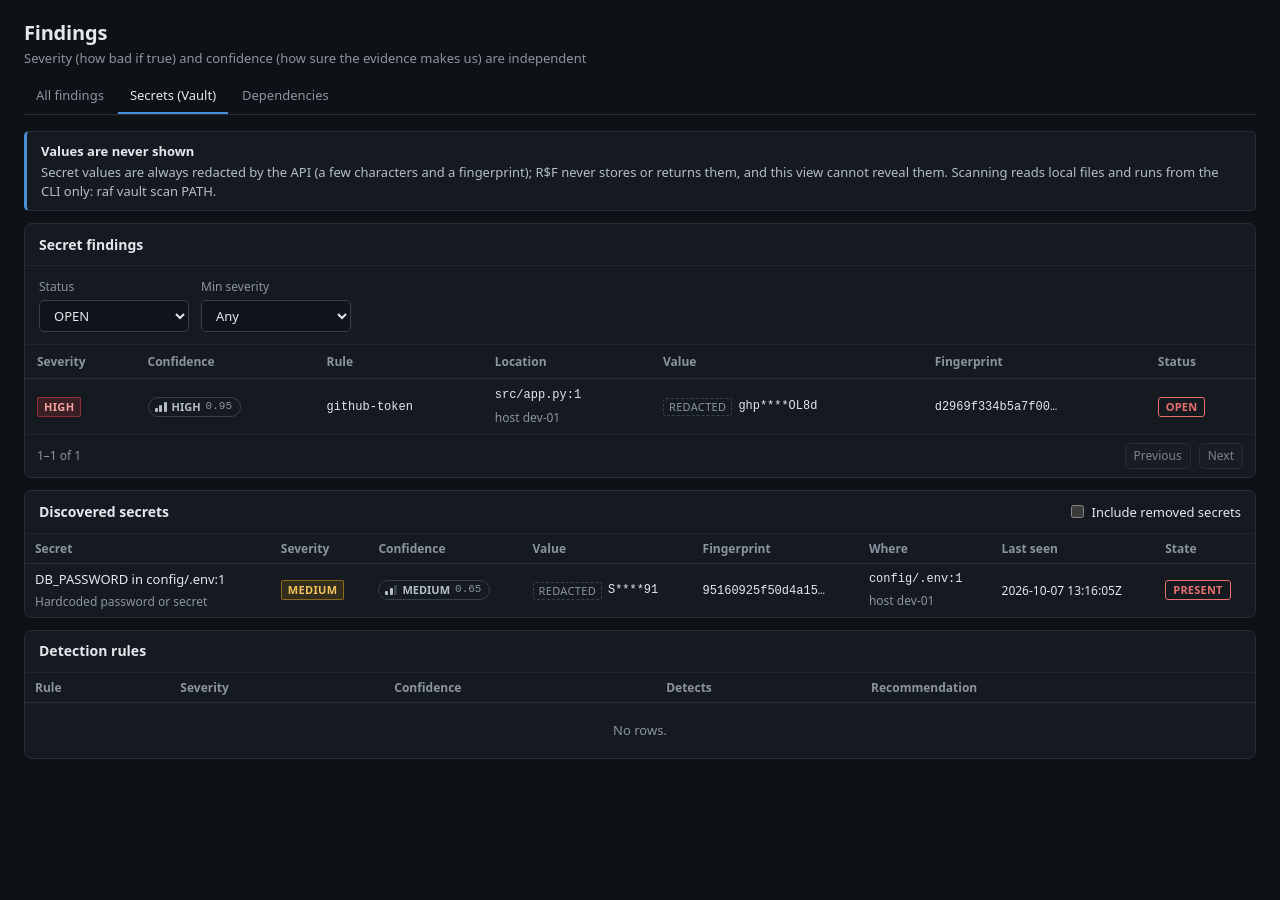
Findings: Vault tab › shows secrets only as redacted values with fingerprints, never the value
Expected: the row named "Open finding GitHub token in src/app.py" shows "redacted", [669, 399, 726, 414]
Expected: the row named "Open finding GitHub token in src/app.py" shows "ghp****OL8d", [738, 399, 817, 413]
Click the text "github-token": [370, 407] box [326, 400, 413, 414]
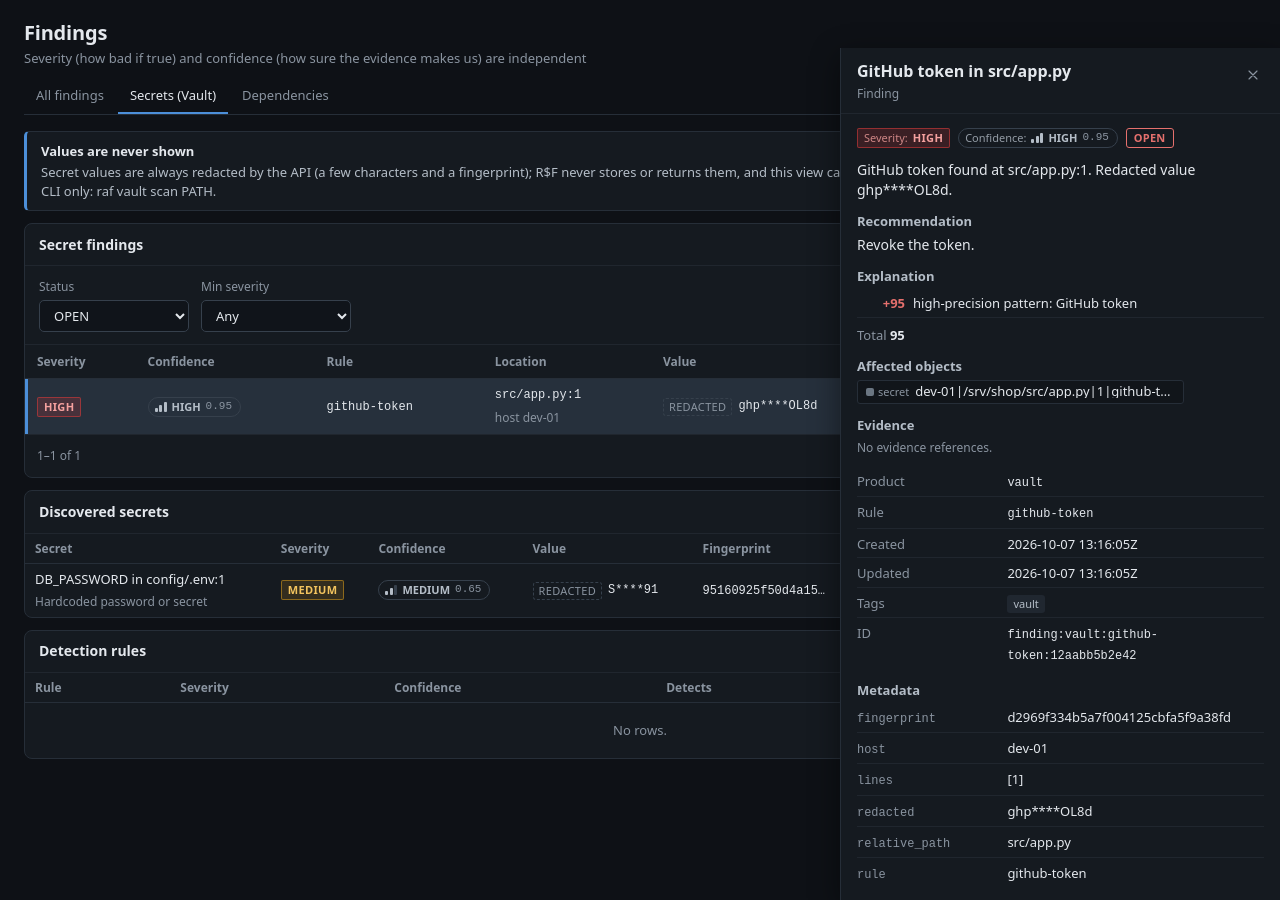
Expected: the text "finding:vault:github-token:12aabb5b2e42" is shown, [1007, 628, 1158, 662]
Expected: the text "vault" next to "Product" is shown, [1007, 476, 1043, 490]
Expected: the dialog "GitHub token in src/app.py" is shown, [840, 48, 1279, 899]
